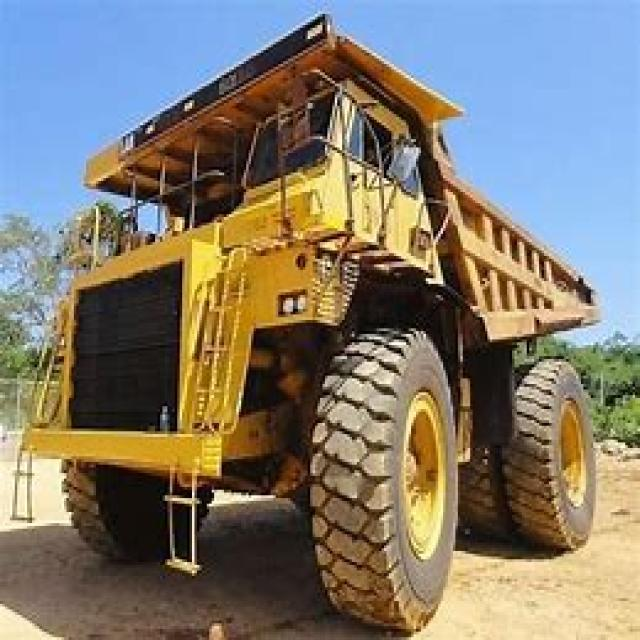dump_truck: (25, 11, 622, 626)
